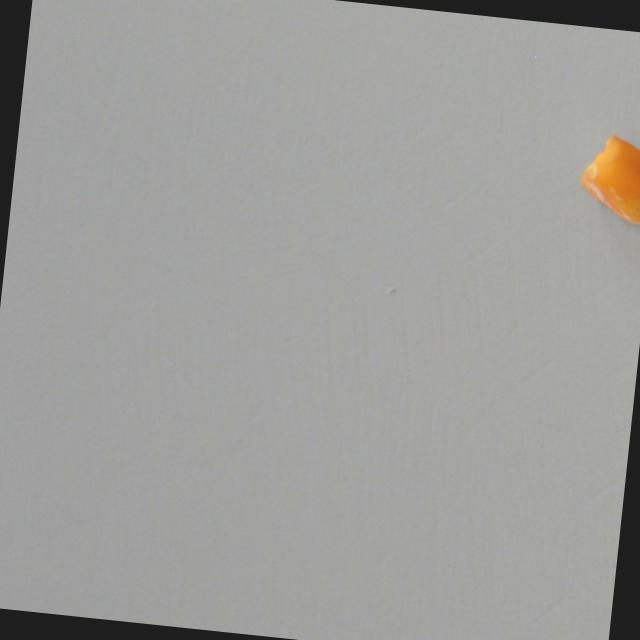dañado: (575, 118, 640, 234)
